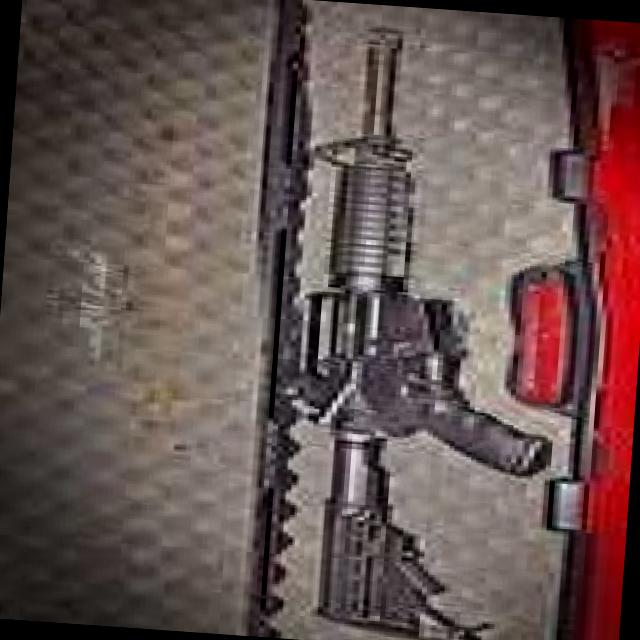long weapon: (284, 9, 522, 639)
